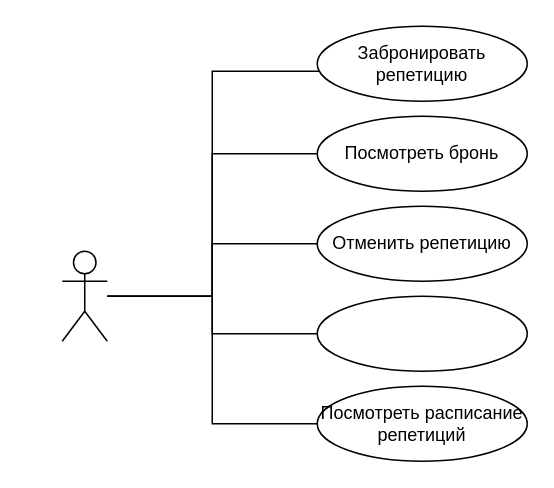
Some shapes in this 554 by 488 pixel diagram are drawn without their labels. Here are the shapes that lost their labels. From the top down, the centre of each, then its label:
the point at 84,295: Пользователь
the point at 421,333: Зарегистрировать репбазу
